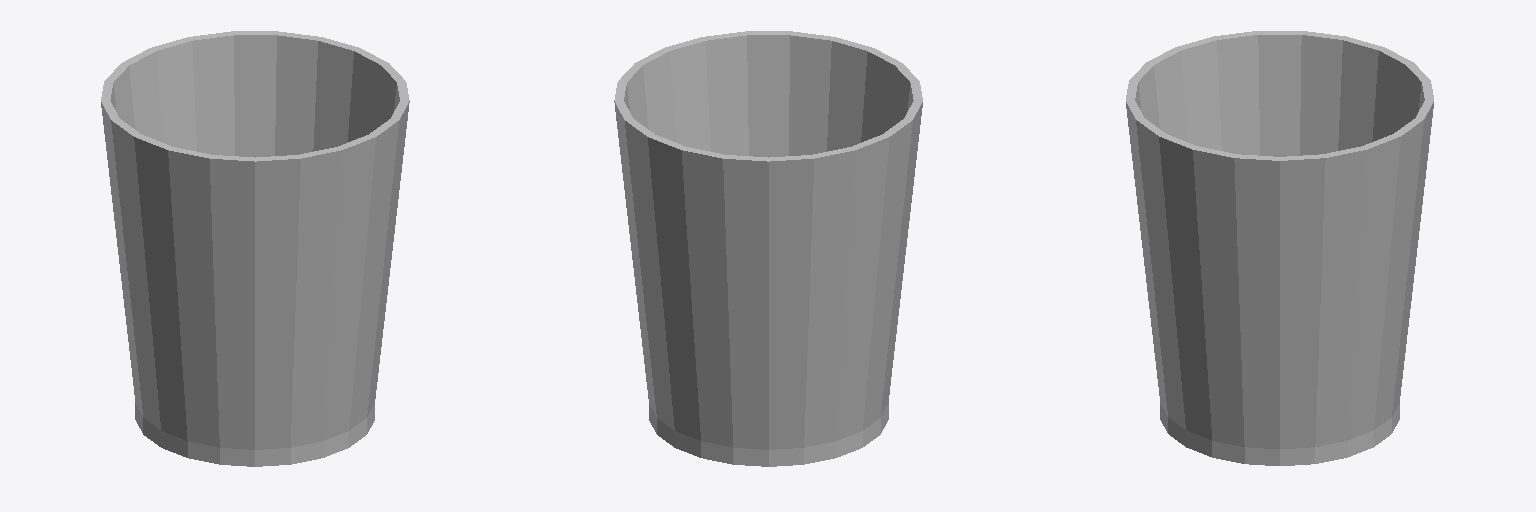
Rendered from Trashcan_A__1.obj.
3 views of the same model, side by side, from view 1: azimuth 30°, elevation 25°; view 2: azimuth 150°, elevation 25°; view 3: azimuth 270°, elevation 25° (orthographic).
Visible parts, largest first — view 1: Cylinder1; view 2: Cylinder1; view 3: Cylinder1.
Boxes of the visible parts, <box> form: Cylinder1: <box>101,31,409,466</box>; Cylinder1: <box>614,31,922,466</box>; Cylinder1: <box>1126,31,1433,465</box>.
Bounding box in the file's own units: 2.57 × 2.94 × 2.57.